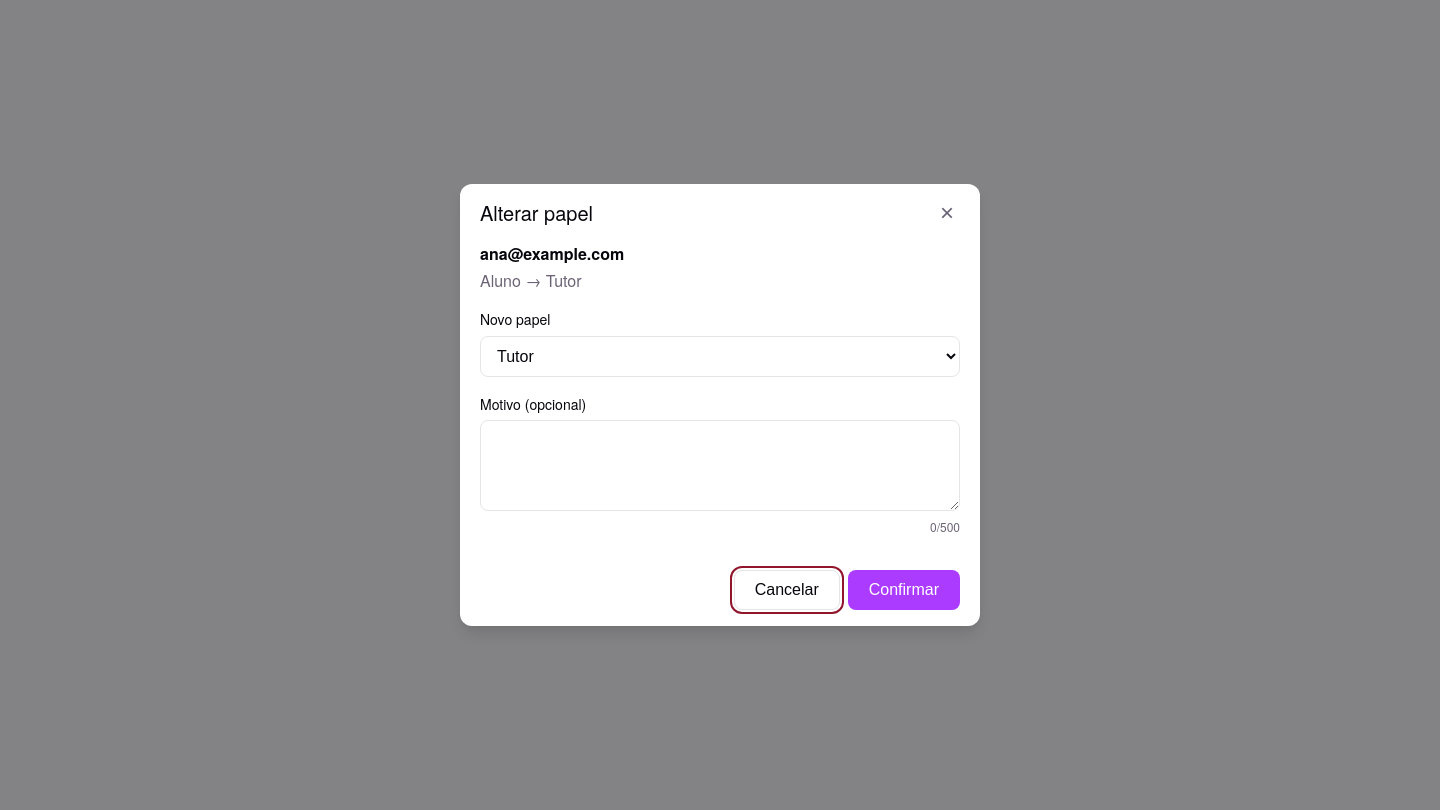
ChangeRoleDialog › disables confirm while the mutation is pending
Click the button "Confirmar".
click(904, 590)  # box 848,570 -> 960,610
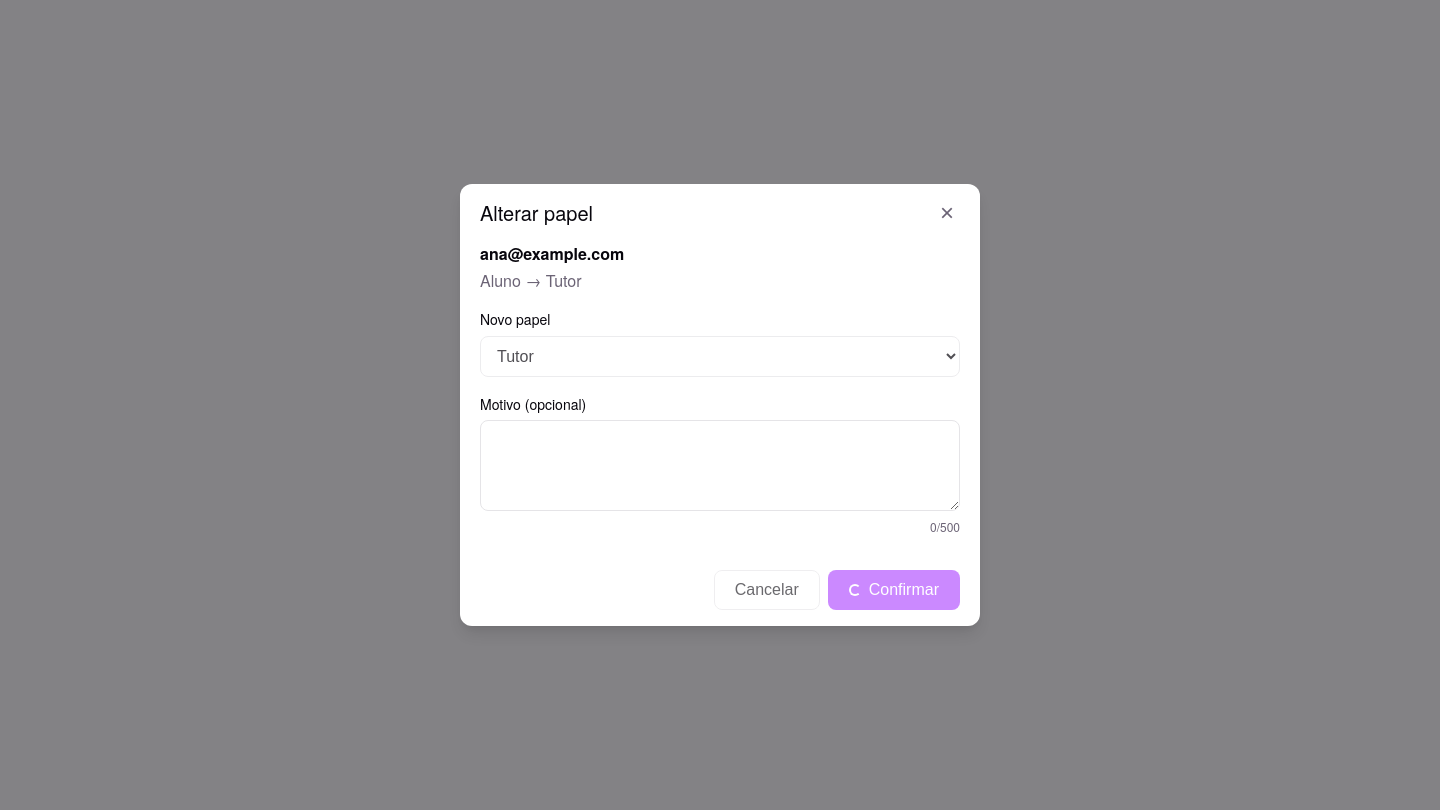
Result: the button "Confirmar" is disabled at 828,570 -> 960,610
